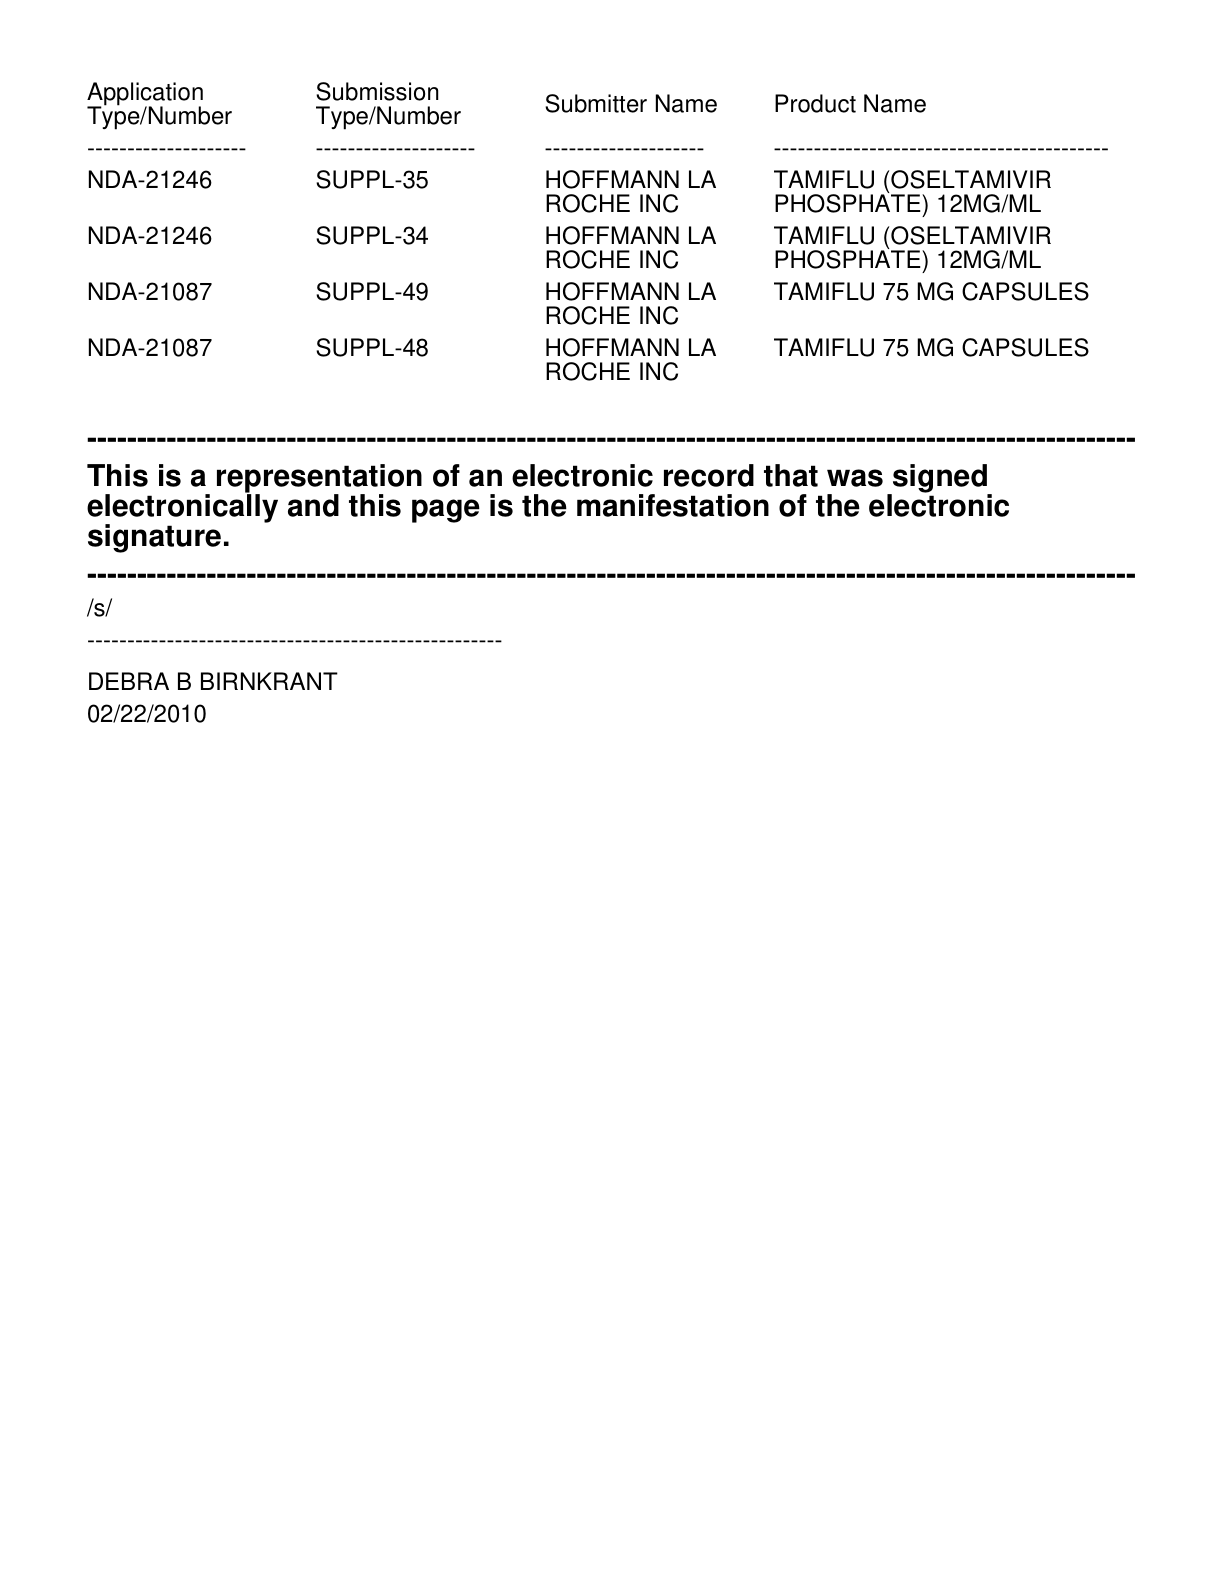nolines: (84, 80, 1110, 383)
